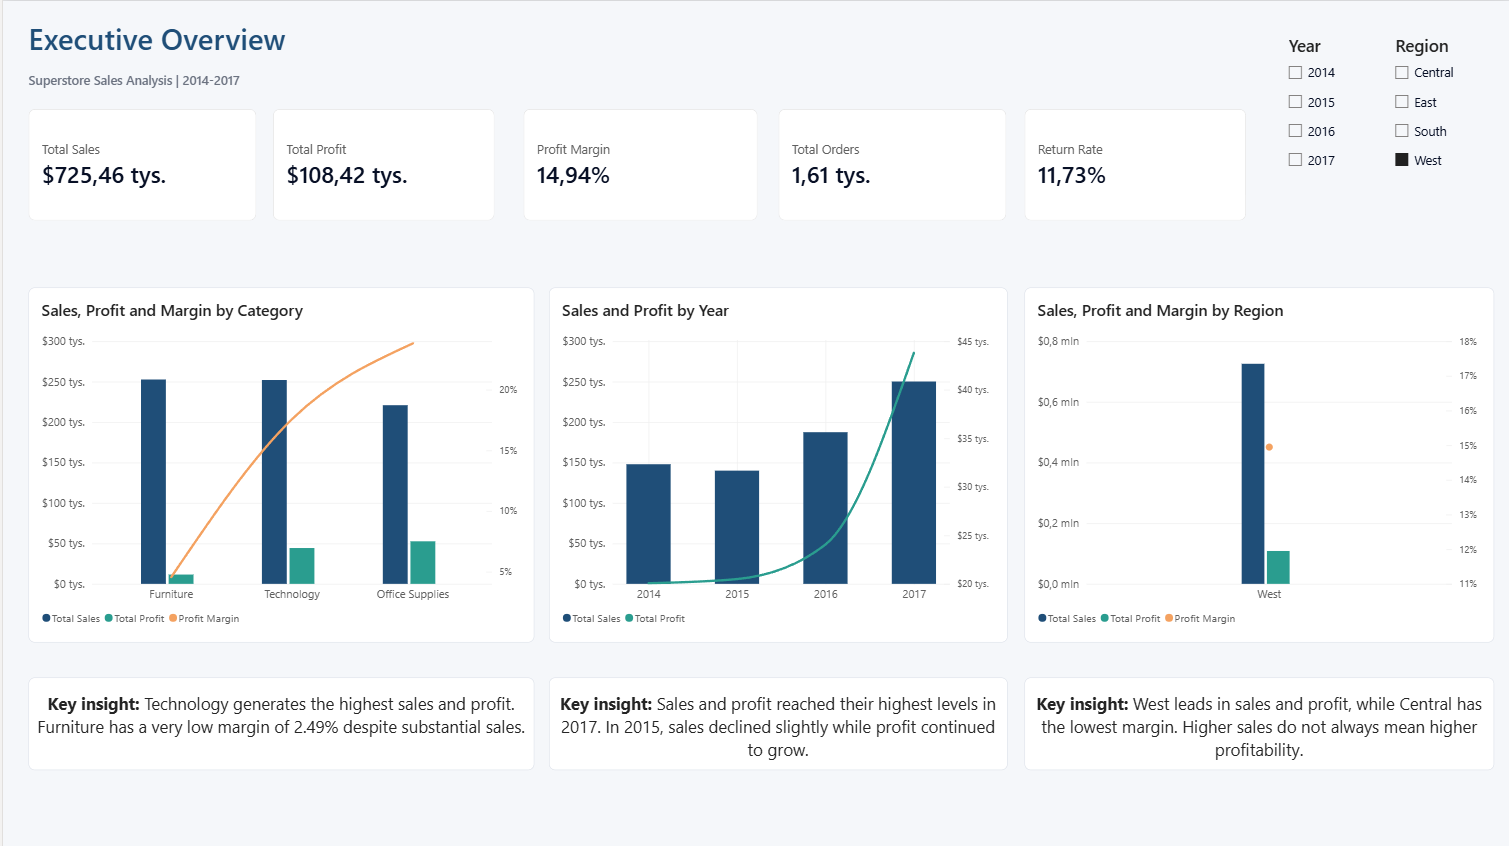

The dashboard page shown, as its layout file describes it:
{"tool":"powerbi","page":{"name":"Executive Overview","canvas":[1920,1080],"ordinal":0},"visuals":[{"type":"cardVisual","fields":{"Data":["_Measures.Total Sales"]},"box":[32,138,290,142],"z":0},{"type":"cardVisual","fields":{"Data":["_Measures.Total Profit"]},"box":[344,138,282,142],"z":1000},{"type":"cardVisual","fields":{"Data":["_Measures.Profit Margin"]},"box":[662,138,298,142],"z":2000},{"type":"cardVisual","fields":{"Data":["_Measures.Total Orders"]},"box":[988,138,290,142],"z":3000},{"type":"cardVisual","fields":{"Data":["_Measures.Return Rate"]},"box":[1300,138,282,142],"z":4000},{"type":"lineClusteredColumnComboChart","title":"Sales and Profit by Year","fields":{"Category":["Calendar.Year"],"Y":["_Measures.Total Sales"],"Y2":["_Measures.Total Profit"]},"box":[696,364,584,452],"z":5000},{"type":"lineClusteredColumnComboChart","title":"Sales, Profit and Margin by Region","fields":{"Category":["people.region"],"Y":["_Measures.Total Sales","_Measures.Total Profit"],"Y2":["_Measures.Profit Margin"]},"box":[1300,364,598,452],"z":6000},{"type":"lineClusteredColumnComboChart","title":"Sales, Profit and Margin by Category ","fields":{"Category":["orders.category"],"Y":["_Measures.Total Sales","_Measures.Total Profit"],"Y2":["_Measures.Profit Margin"]},"box":[32,364,644,452],"z":7000},{"type":"slicer","fields":{"Values":["Calendar.Year"]},"box":[1630,42,126,204],"z":8000},{"type":"slicer","fields":{"Values":["people.region"]},"box":[1764,42,130,198],"z":9000},{"type":"textbox","box":[32,22,416,96],"z":10000},{"type":"textbox","box":[32,862,644,118],"z":11000},{"type":"textbox","box":[696,862,584,118],"z":12000},{"type":"textbox","box":[1300,862,598,118],"z":13000}]}

Visuals, with their boxes in screenshot pixels (x1, y1, x2, y2), scaled from the page's 1920x1080 canvas onto the 1509x846 screenshot:
cardVisual - _Measures.Total Sales: detection(25, 108, 253, 219)
cardVisual - _Measures.Total Profit: detection(270, 108, 492, 219)
cardVisual - _Measures.Profit Margin: detection(520, 108, 754, 219)
cardVisual - _Measures.Total Orders: detection(777, 108, 1004, 219)
cardVisual - _Measures.Return Rate: detection(1022, 108, 1243, 219)
"Sales and Profit by Year" lineClusteredColumnComboChart: detection(547, 285, 1006, 639)
"Sales, Profit and Margin by Region" lineClusteredColumnComboChart: detection(1022, 285, 1492, 639)
"Sales, Profit and Margin by Category " lineClusteredColumnComboChart: detection(25, 285, 531, 639)
slicer - Calendar.Year: detection(1281, 33, 1380, 193)
slicer - people.region: detection(1386, 33, 1489, 188)
textbox: detection(25, 17, 352, 92)
textbox: detection(25, 675, 531, 768)
textbox: detection(547, 675, 1006, 768)
textbox: detection(1022, 675, 1492, 768)
